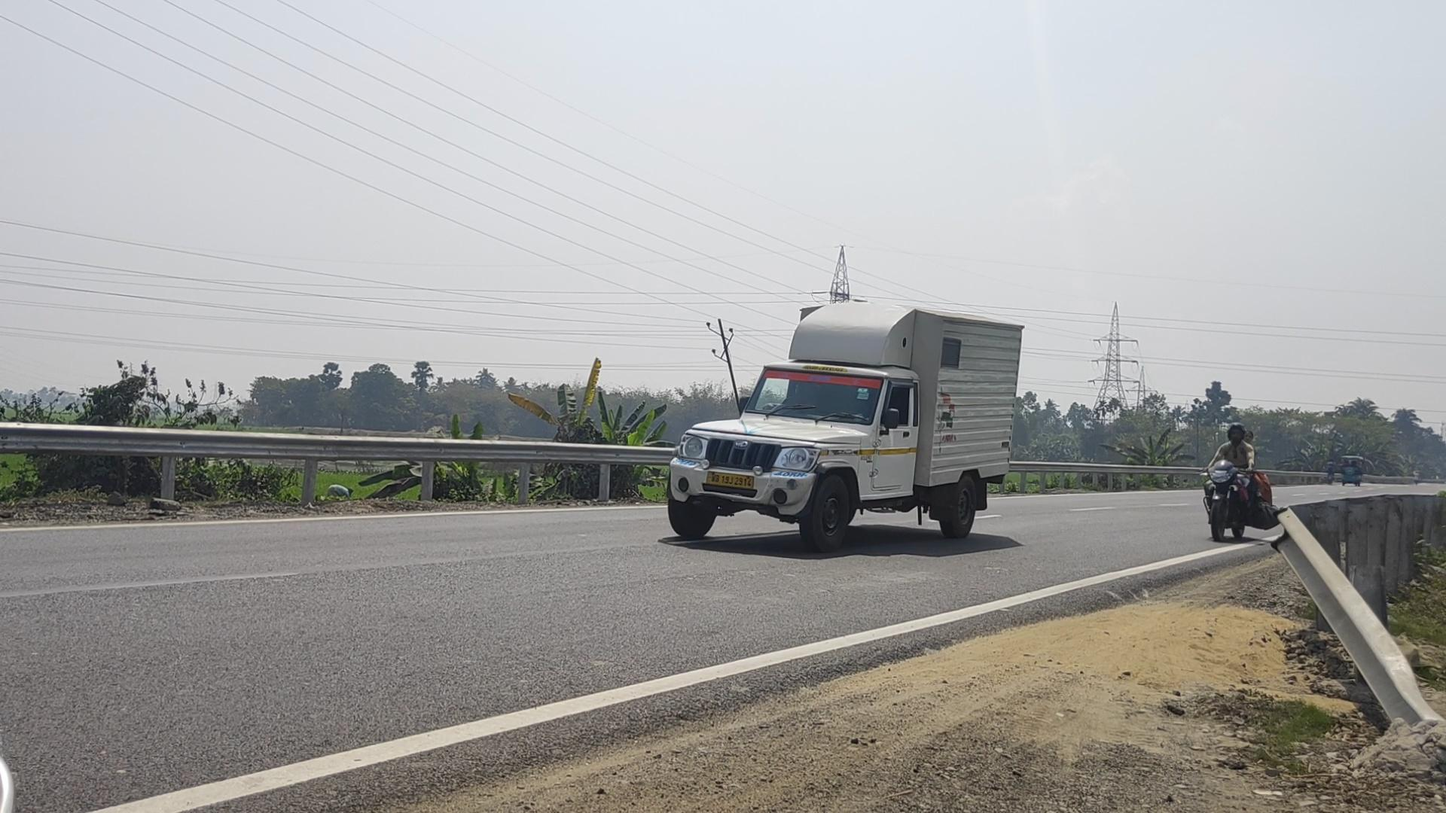Auto: (1341, 455, 1364, 487)
bike: (1198, 422, 1272, 542)
van: (666, 301, 1024, 552)
